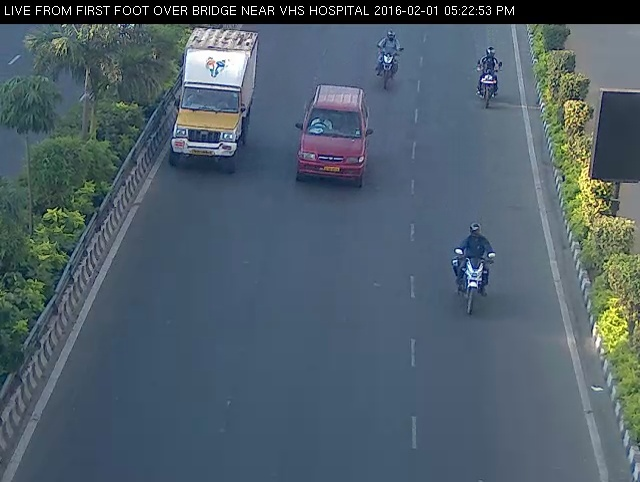Car: (149, 26, 267, 179), (287, 79, 378, 194)
Person: (444, 212, 504, 323), (467, 36, 507, 117), (370, 23, 409, 97)
